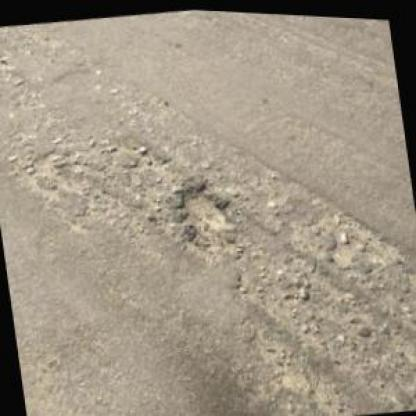pothole: (176, 176, 241, 255), (129, 137, 172, 179)
